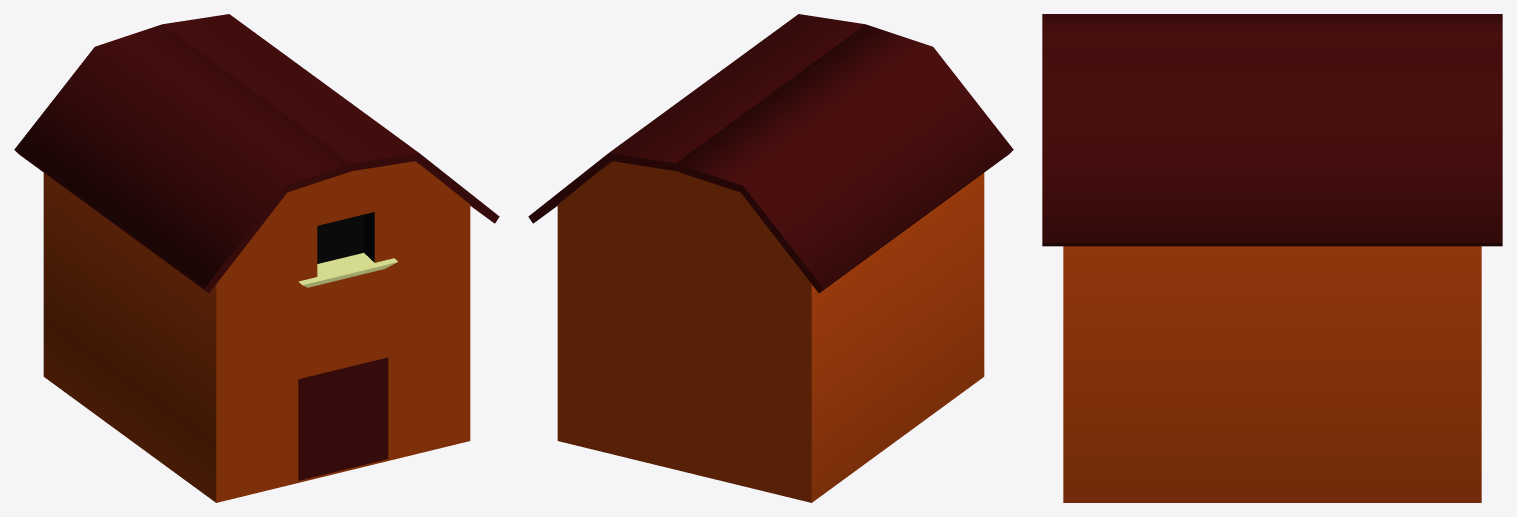
The model's file is barn.FBX.
3 views of the same model, side by side, from view 1: azimuth 30°, elevation 25°; view 2: azimuth 150°, elevation 25°; view 3: azimuth 270°, elevation 25° (orthographic). The views are drawn at different scales.
Parts seen in each view (by area): view 1: barn; view 2: barn; view 3: barn.
Part boxes in pixels (left/top/right/bottom): barn: left=14, top=14, right=499, bottom=502; barn: left=528, top=14, right=1013, bottom=502; barn: left=1042, top=14, right=1502, bottom=502.
Bounding box in the file's own units: 7.9 × 8.05 × 8.8.
